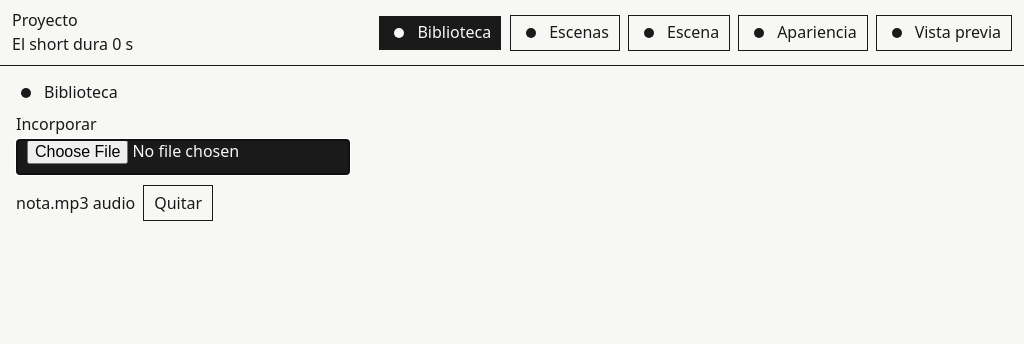
Test: sin una imagen o un video no se añade una escena
This screenshot has width=1024, height=344.
Earlier steps of the test are not shown.
Click the button "Escenas" at (565, 33), box [510,15,620,51]
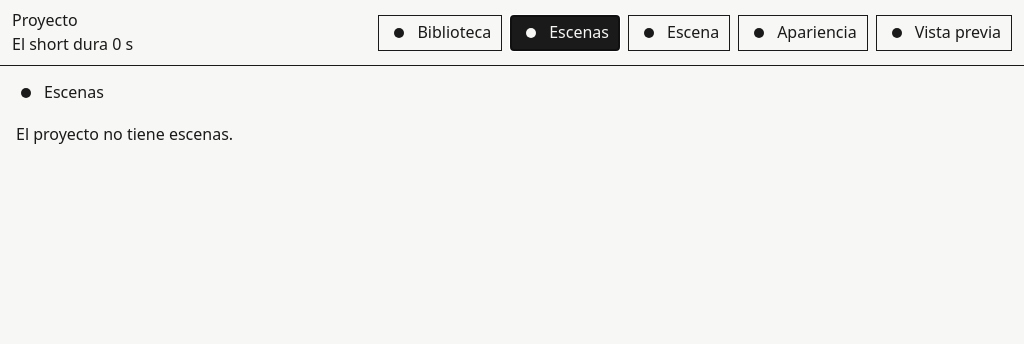
Expected: the text "El short dura 0 s" is shown, [12,34,133,55]
Expected: the text "El proyecto no tiene escenas." is shown, [16,123,233,145]
Click the button "Escena" at (679, 33), box [628,15,730,51]
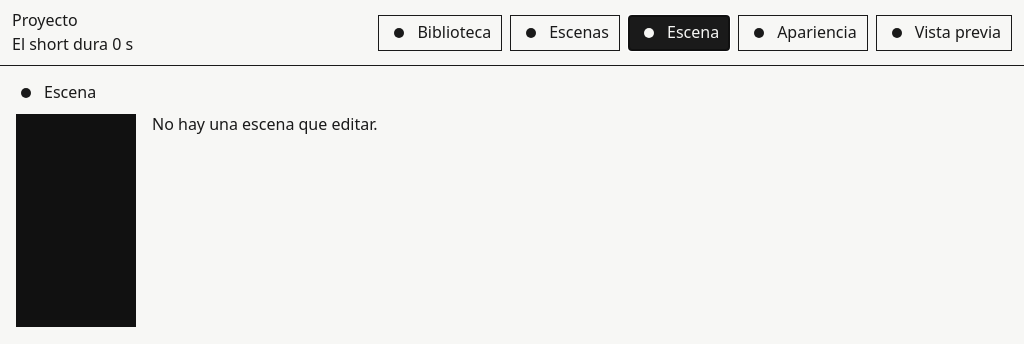
Expected: the text "No hay una escena que editar." is shown, [152,114,378,135]
